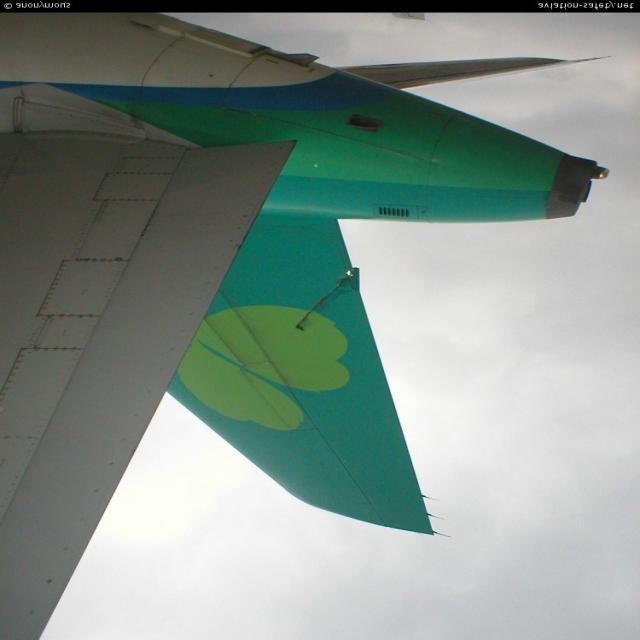crack: (300, 266, 363, 330)
